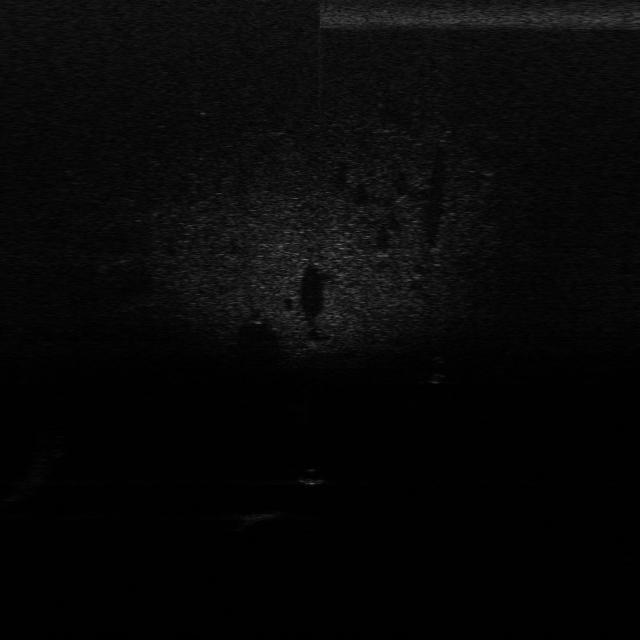ball: (300, 465, 328, 488)
square cage: (236, 506, 286, 524)
tyre: (427, 355, 452, 385)
